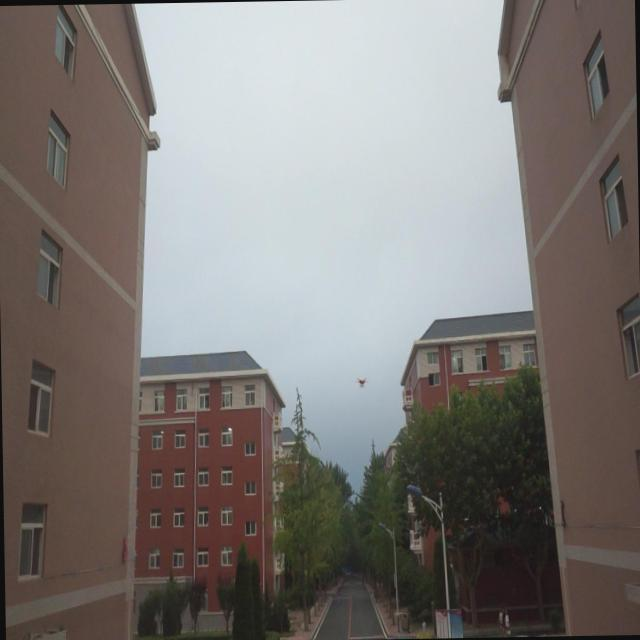drone: (355, 374, 367, 392)
